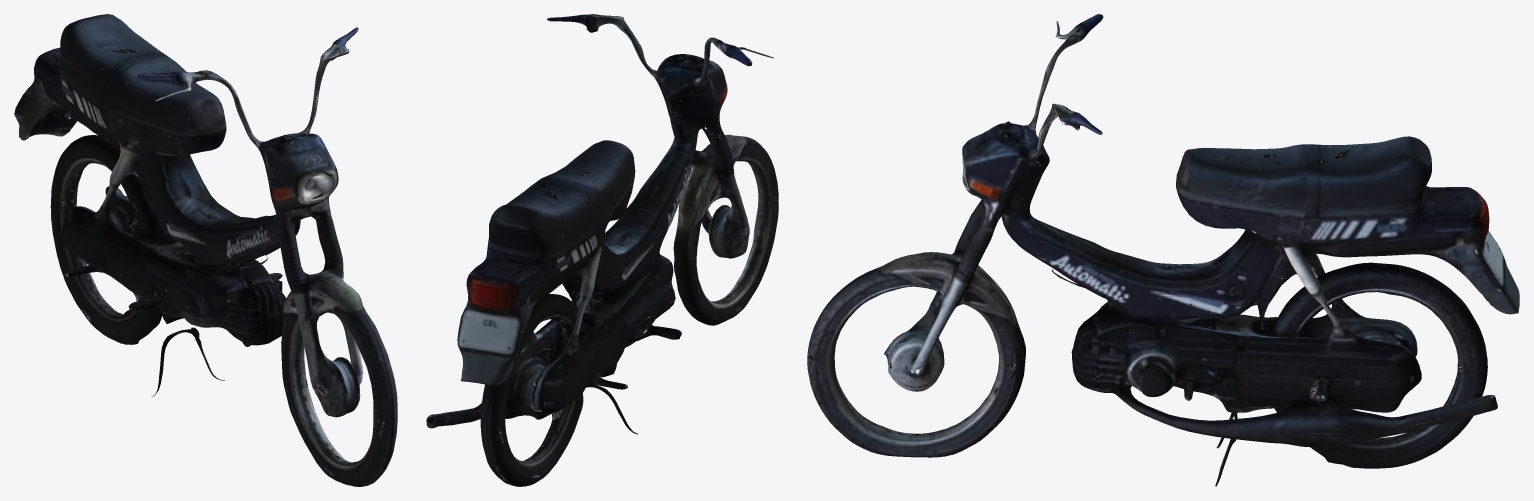
The model's file is moped.glb.
3 views of the same model, side by side, from view 1: azimuth 30°, elevation 25°; view 2: azimuth 150°, elevation 25°; view 3: azimuth 270°, elevation 25° (orthographic). The views are drawn at different scales.
Visible parts, largest first — view 1: Object_2; view 2: Object_2; view 3: Object_2.
Boxes of the visible parts, x1,y1,x2,y2 form: Object_2: (14,14,397,486); Object_2: (426,14,778,486); Object_2: (807,14,1519,486).
Bounding box in the file's own units: 0.6332 × 1.03 × 1.65.
1 material, 1 textured.
